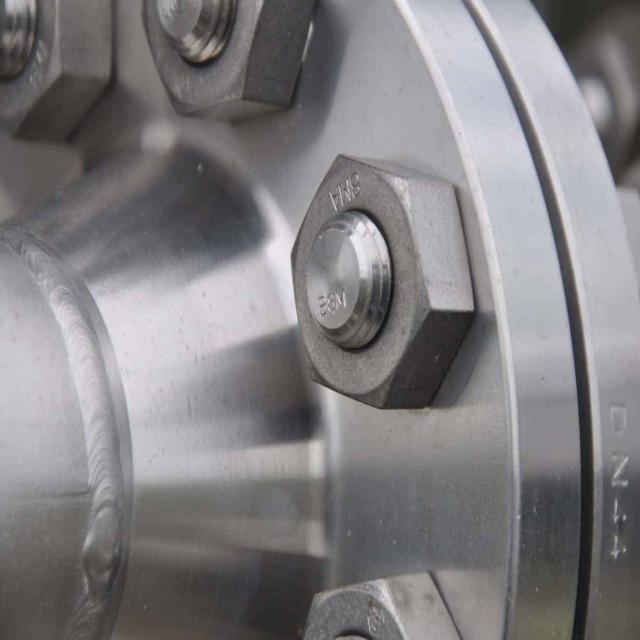bolt nut: (290, 152, 478, 412)
